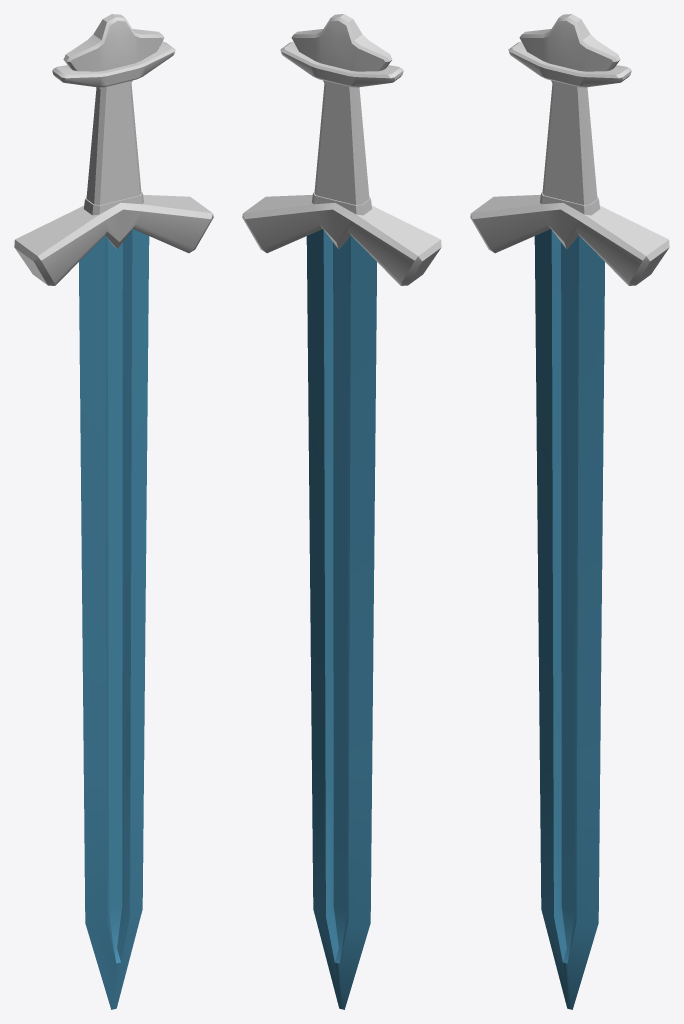
File: SM_Espada.fbx
3 views of the same model, side by side, from view 1: azimuth 30°, elevation 25°; view 2: azimuth 150°, elevation 25°; view 3: azimuth 330°, elevation 25° (orthographic).
Visible parts, largest first — view 1: SM_Espada; view 2: SM_Espada; view 3: SM_Espada.
Boxes of the visible parts, x1,y1,x2,y2 form: SM_Espada: (14,14,213,1009); SM_Espada: (242,14,441,1009); SM_Espada: (470,14,669,1009).
Size of the model in its own units: 23.75 by 125 by 5.61.
